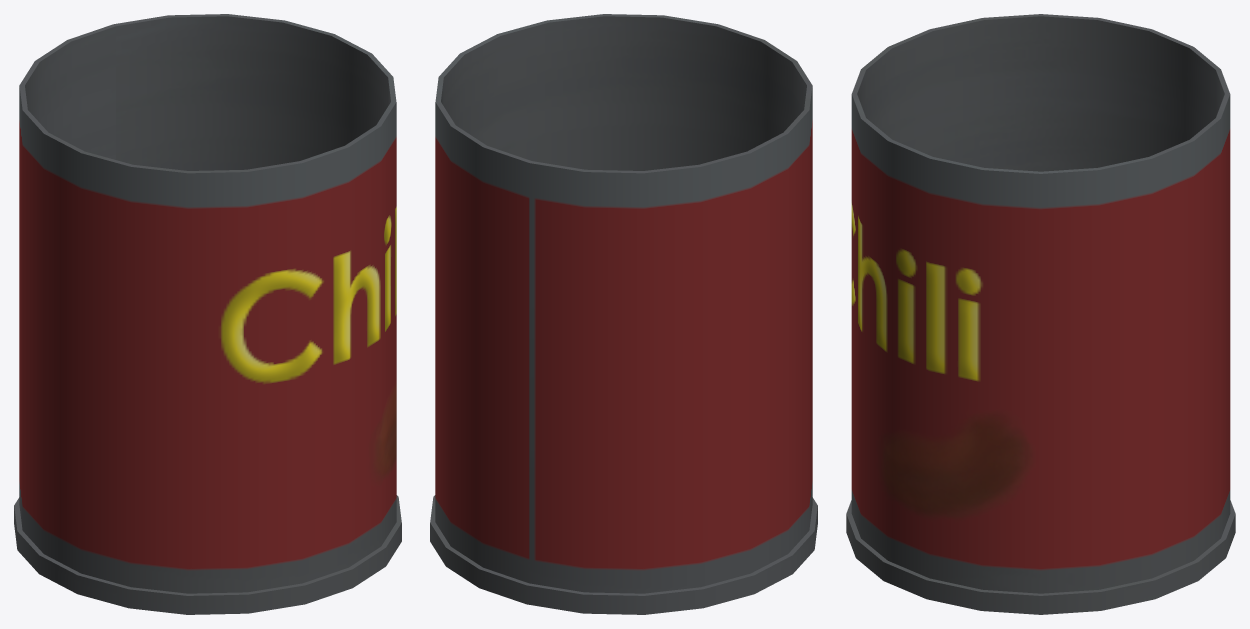
The model's file is SM_Can.fbx.
The picture shows the model from 3 angles, left to right: view 1: azimuth 30°, elevation 25°; view 2: azimuth 150°, elevation 25°; view 3: azimuth 270°, elevation 25°; orthographic projection.
Visible parts, largest first — view 1: Can; view 2: Can; view 3: Can.
Part boxes in pixels (x1,y1,x2,y2): Can: (14, 14, 401, 614); Can: (430, 14, 817, 614); Can: (846, 14, 1235, 614).
Bounding box in the file's own units: 14.65 × 18.22 × 14.65.
